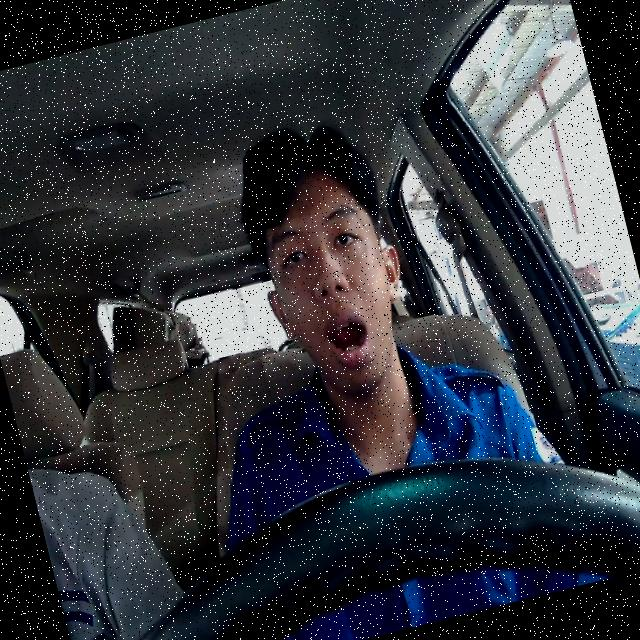yarning: (238, 148, 428, 404)
